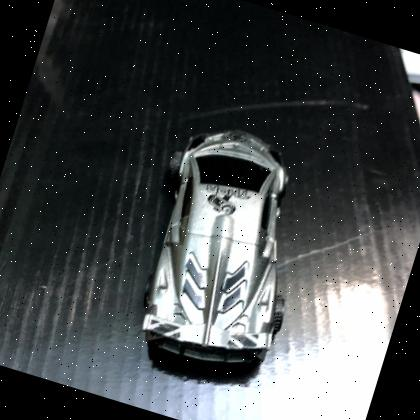Car: (141, 131, 288, 384)
